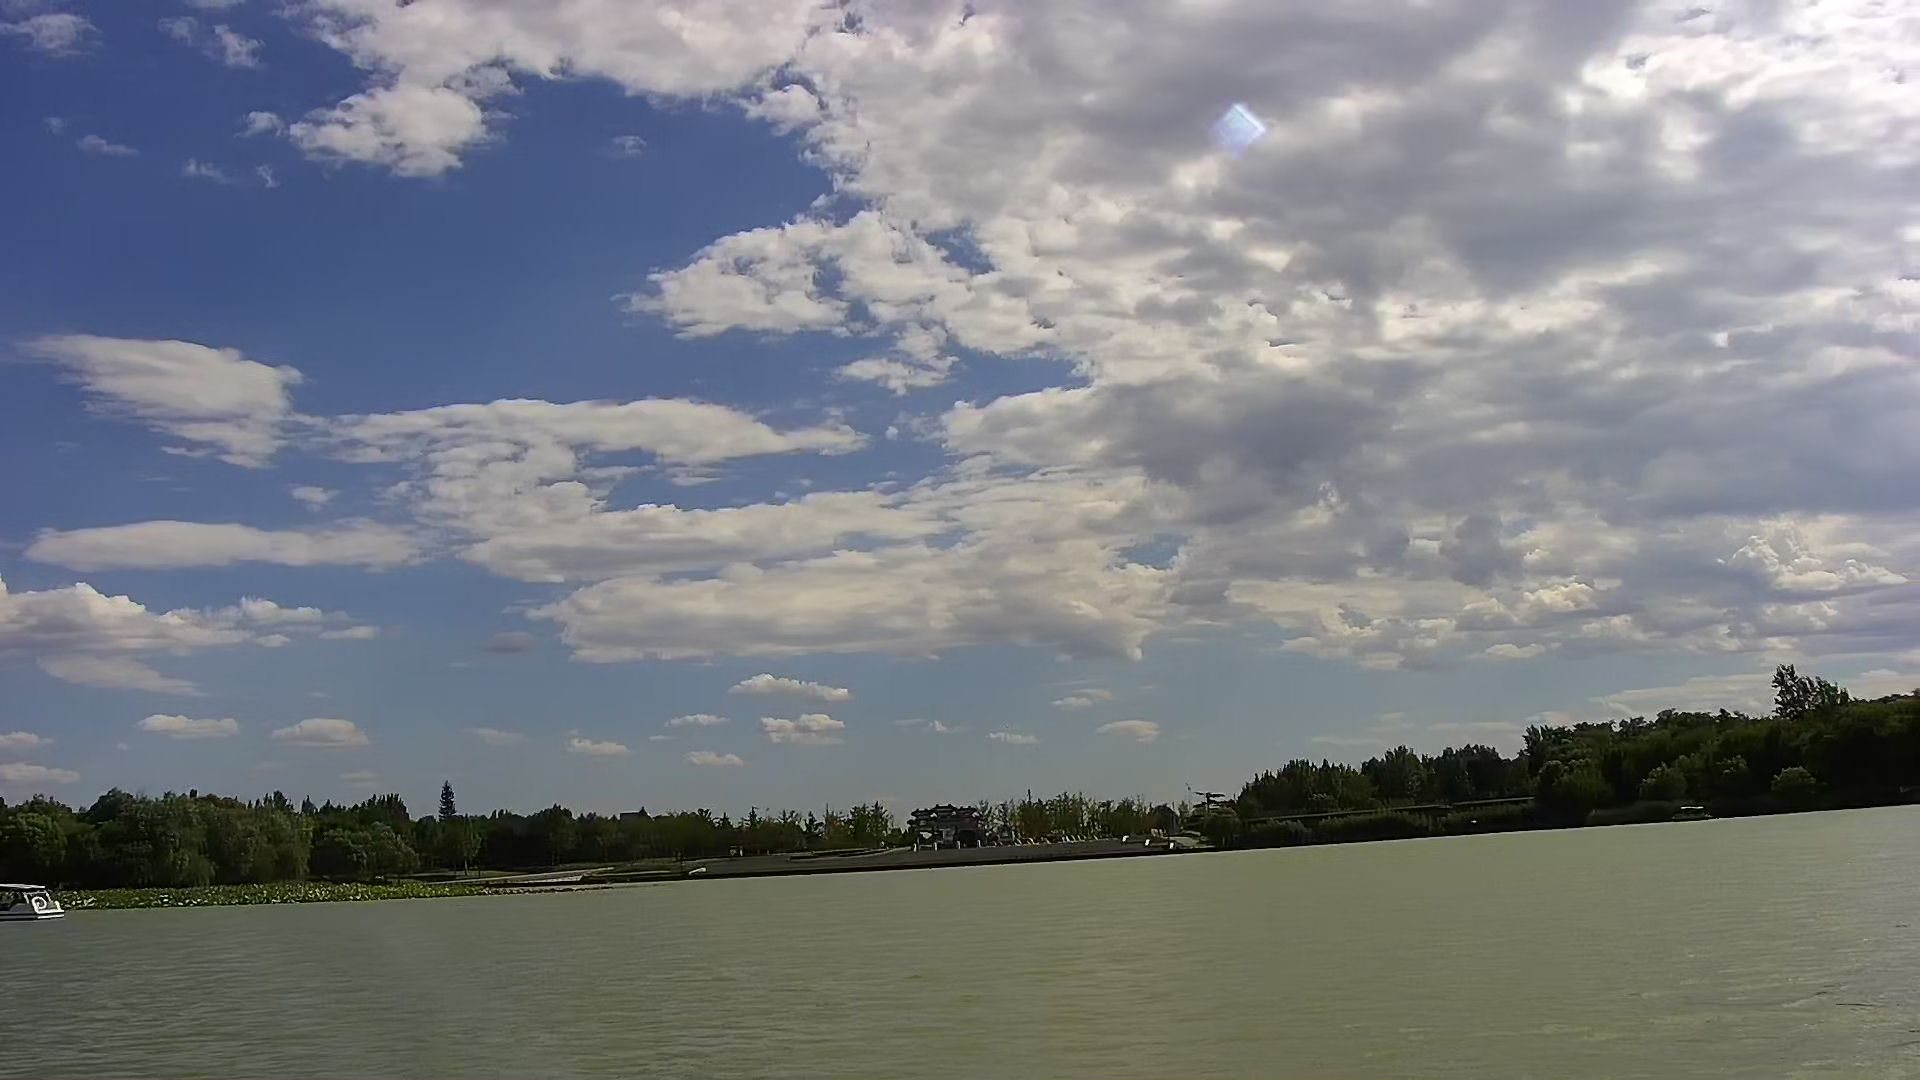boat: (1, 880, 65, 922)
